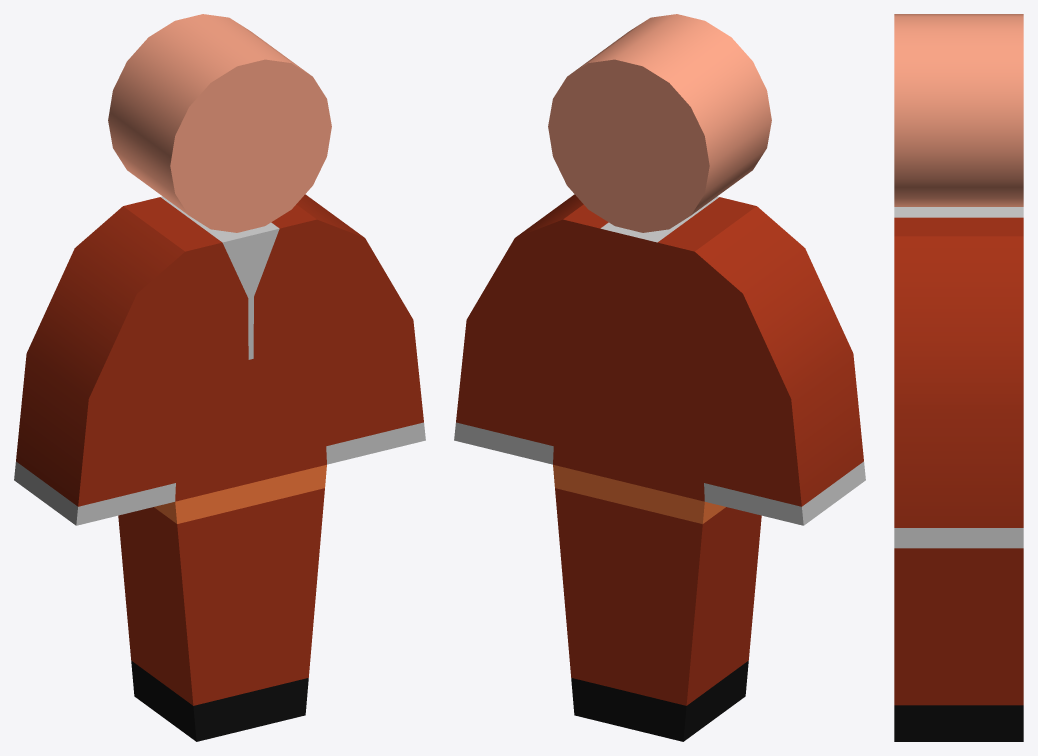
File: prisoner.fbx
The picture shows the model from 3 angles, left to right: view 1: azimuth 30°, elevation 25°; view 2: azimuth 150°, elevation 25°; view 3: azimuth 270°, elevation 25°; orthographic projection. The views are drawn at different scales.
Parts seen in each view (by area): view 1: Box001, Cylinder001; view 2: Box001, Cylinder001; view 3: Box001, Cylinder001.
Part boxes in pixels (<box>): Box001: <box>14,194,425,741</box>; Cylinder001: <box>108,14,331,232</box>; Box001: <box>454,194,865,741</box>; Cylinder001: <box>548,14,771,232</box>; Box001: <box>894,207,1023,741</box>; Cylinder001: <box>894,14,1023,206</box>.
Bounding box in the file's own units: 64.89 × 118 × 20.
